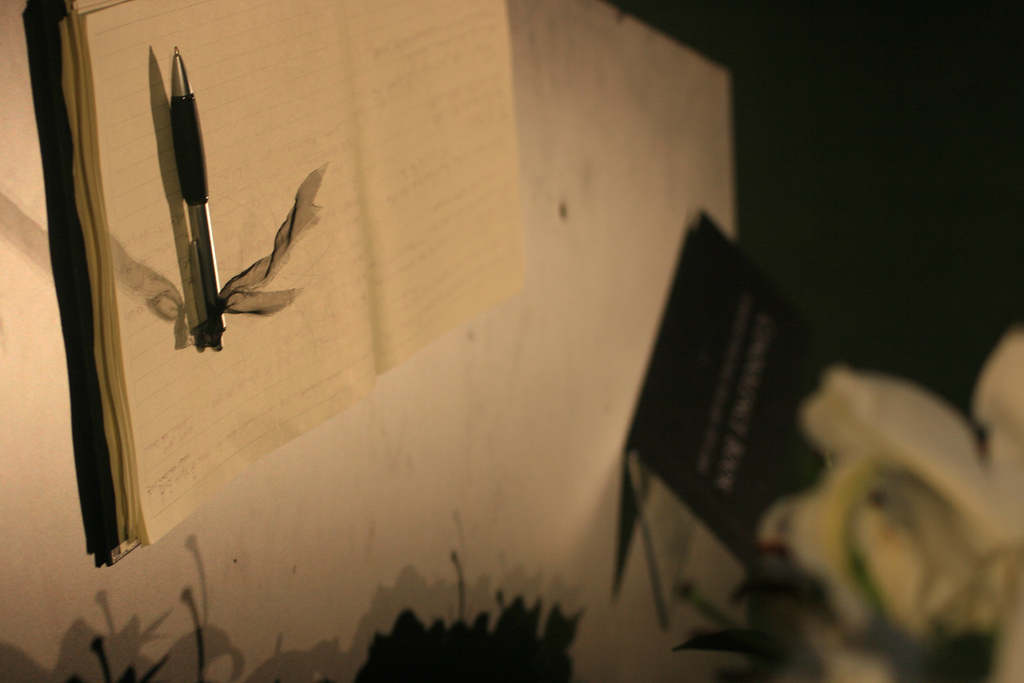Pen: (167, 46, 220, 363)
